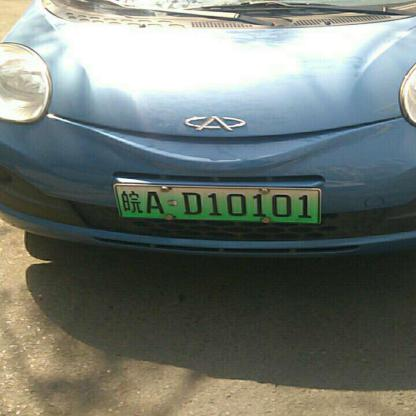lp: (115, 185, 318, 221)
